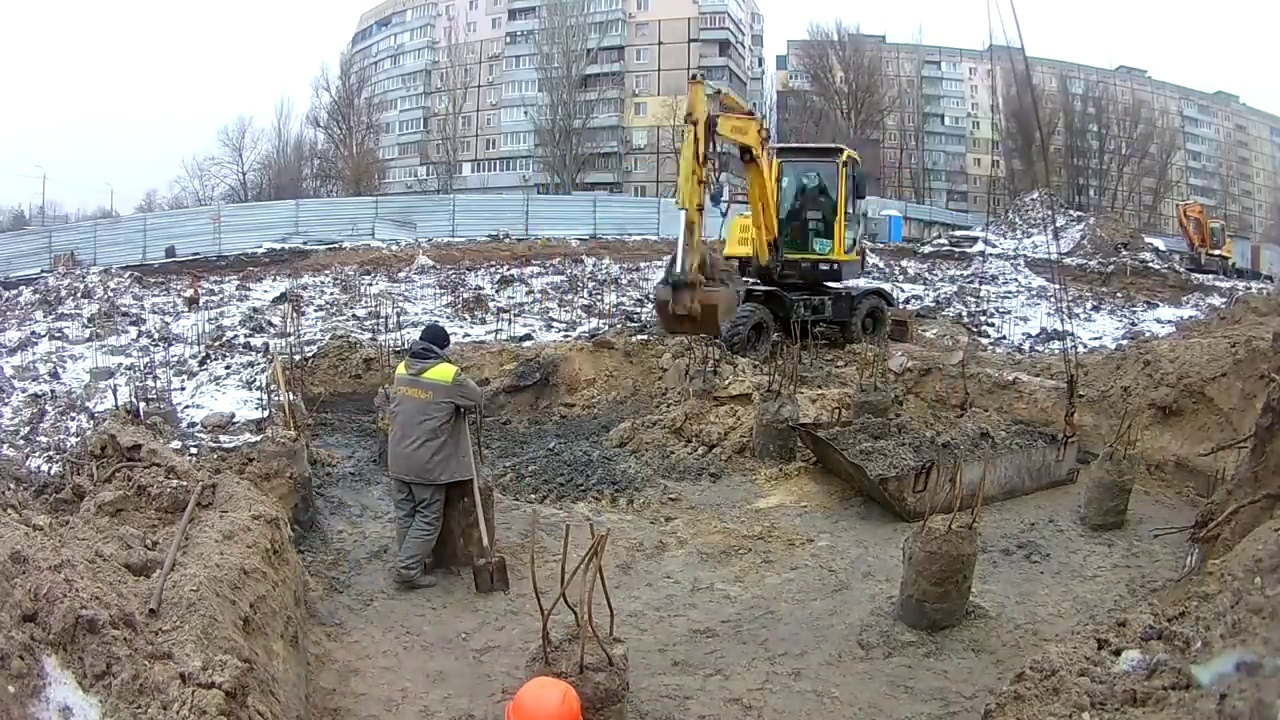helmet: (501, 672, 585, 720)
helmet-off: (413, 326, 449, 366)
person: (383, 322, 482, 592)
